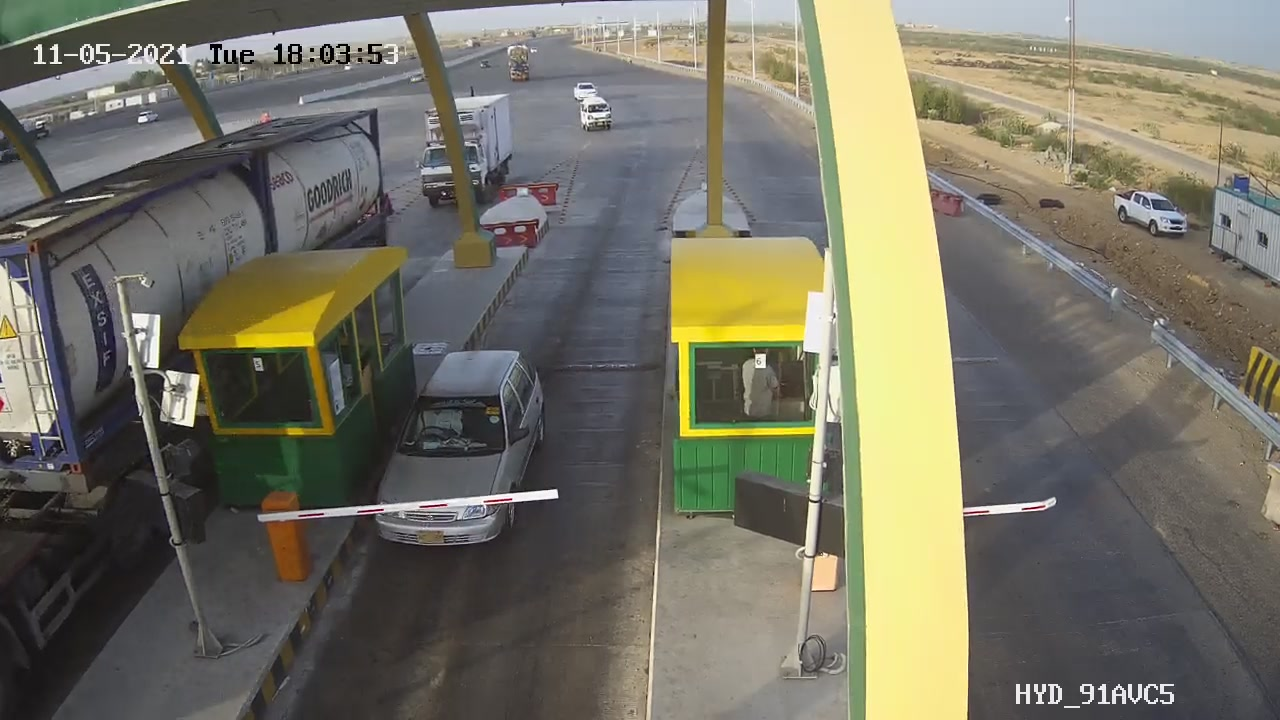F1: (352, 334, 564, 568)
